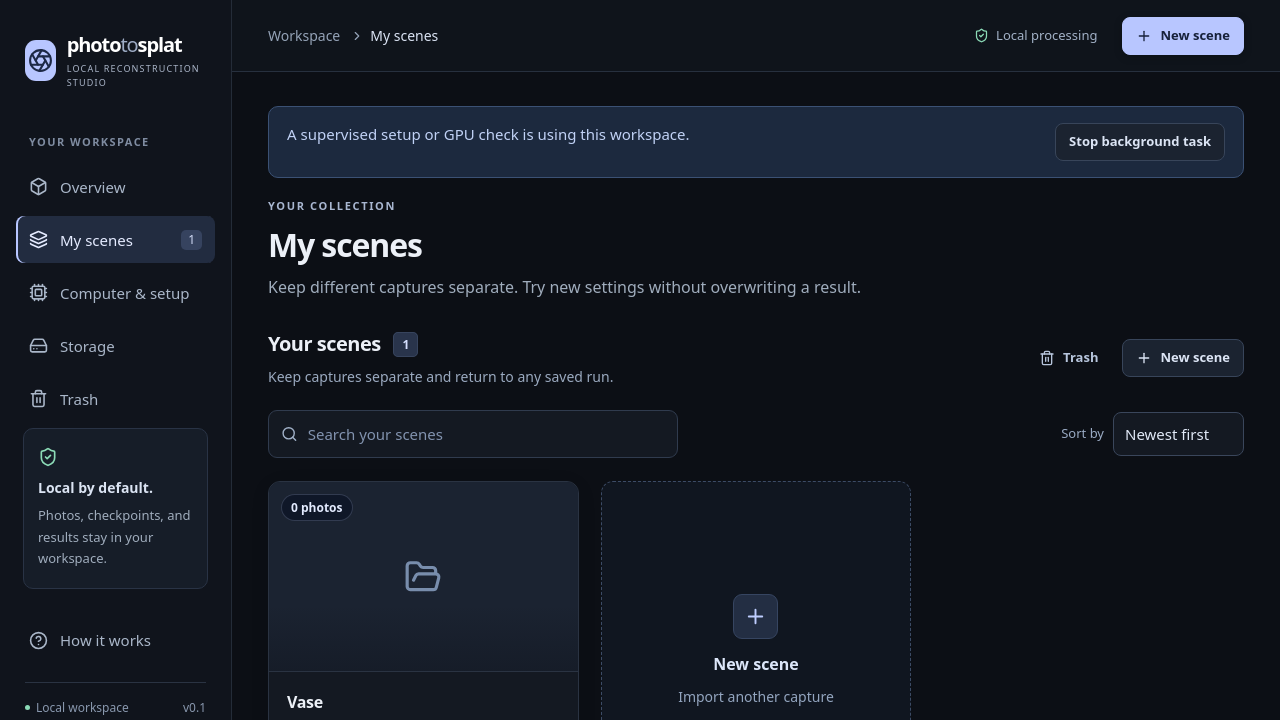
Test: recognizes a recovered background task and lets the user stop it
The width and height of the screenshot is (1280, 720).
Click the button "Stop background task" at (1140, 142), box [1055,123,1225,161]
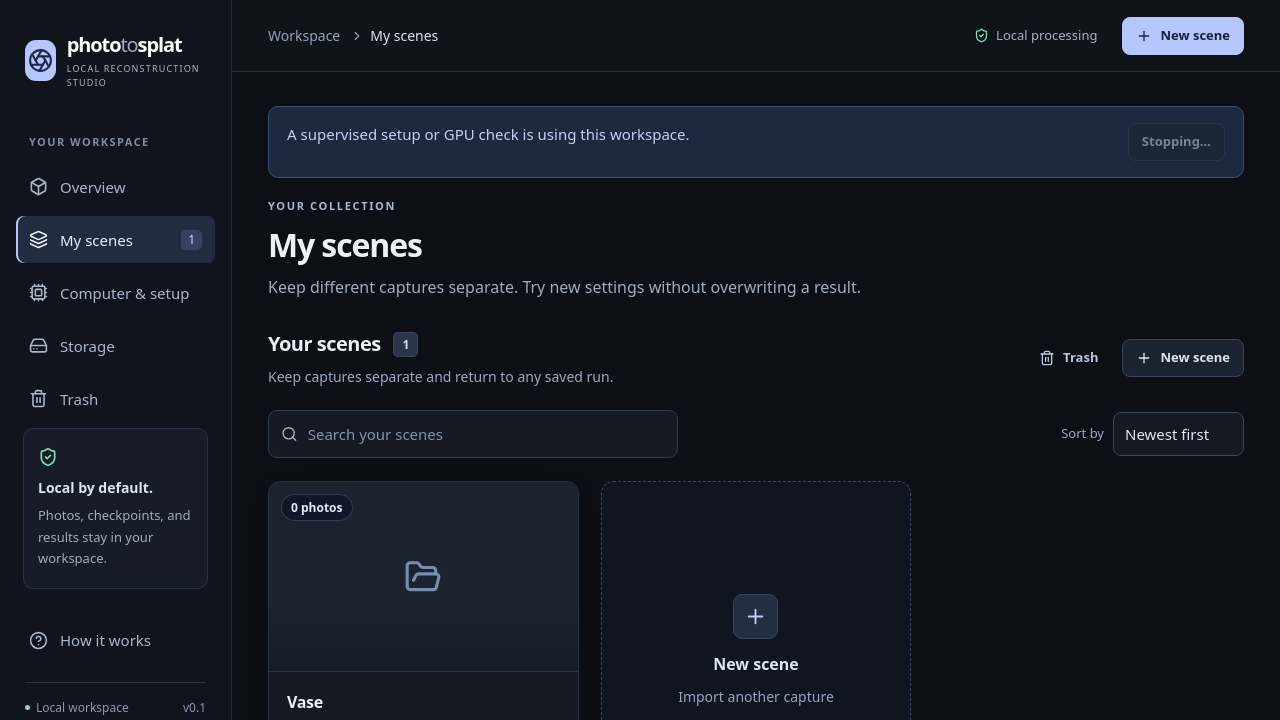
Expected: the text "A supervised setup or GPU check is using this workspace." is shown once, [287,124,690,144]
Expected: the button "Stopping…" is disabled, [1128,123,1225,161]
